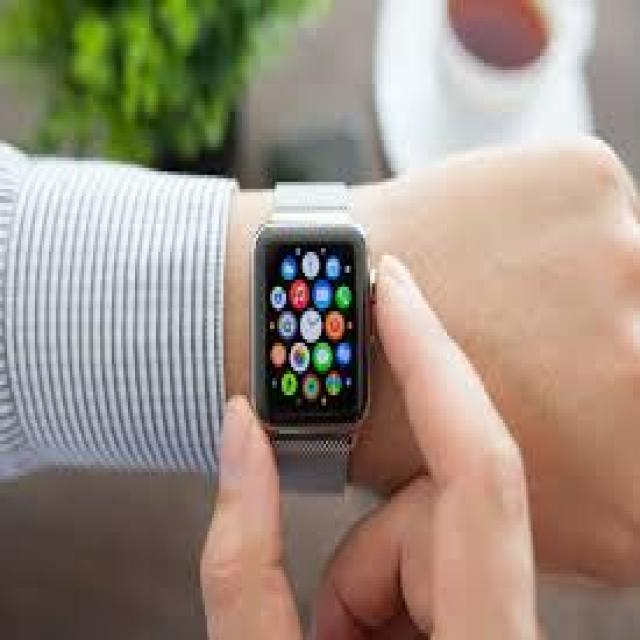objects: (248, 172, 390, 500)
